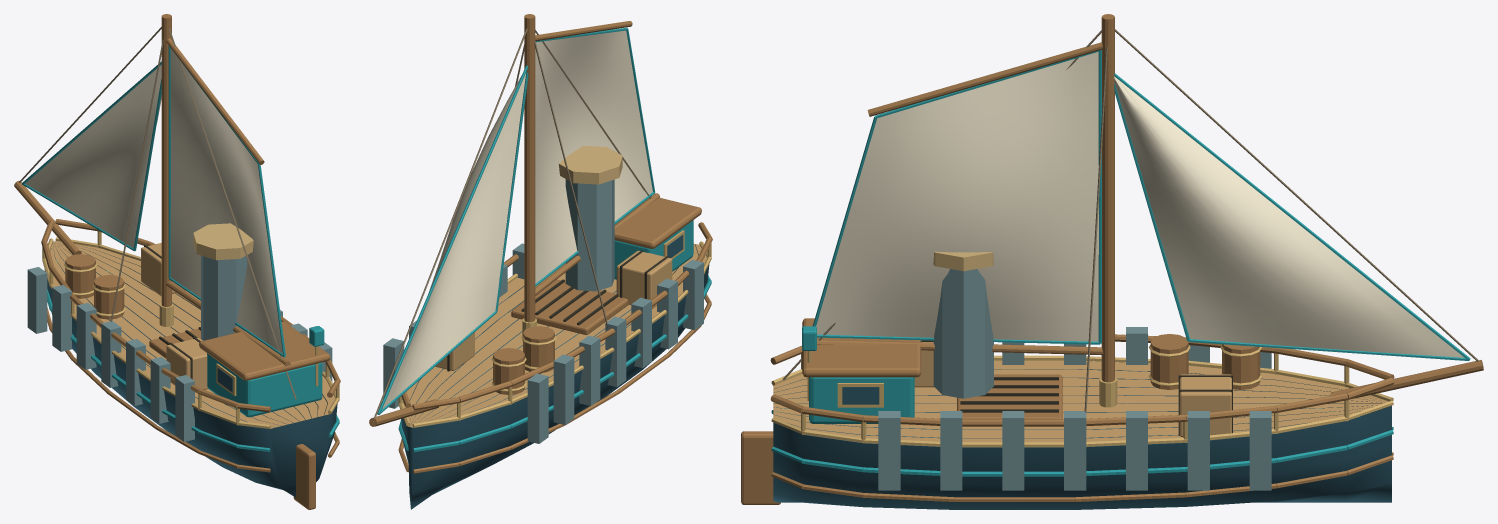
File: ship_sloop.glb
3 views of the same model, side by side, from view 1: azimuth 30°, elevation 25°; view 2: azimuth 150°, elevation 25°; view 3: azimuth 270°, elevation 25° (orthographic). The views are drawn at different scales.
Visible parts, largest first — view 1: Sloop curved hull; view 2: Sloop curved hull; view 3: Sloop curved hull.
Boxes of the visible parts, bbox=[...] form: Sloop curved hull: bbox=[14, 14, 340, 509]; Sloop curved hull: bbox=[369, 14, 712, 509]; Sloop curved hull: bbox=[741, 14, 1483, 509].
Size of the model in its own units: 2.14 by 5.34 by 7.38.
